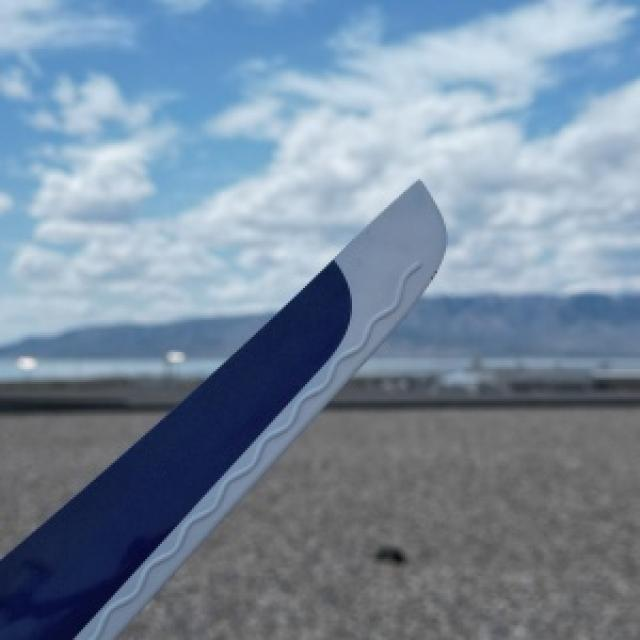healthy: (0, 179, 442, 638)
